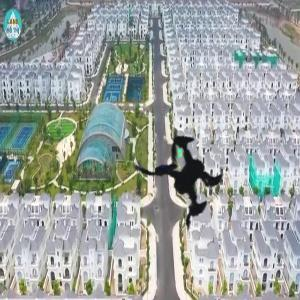drone: (104, 85, 286, 267)
